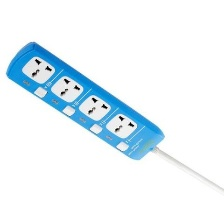three_eye_plug: (5, 41, 166, 162)
